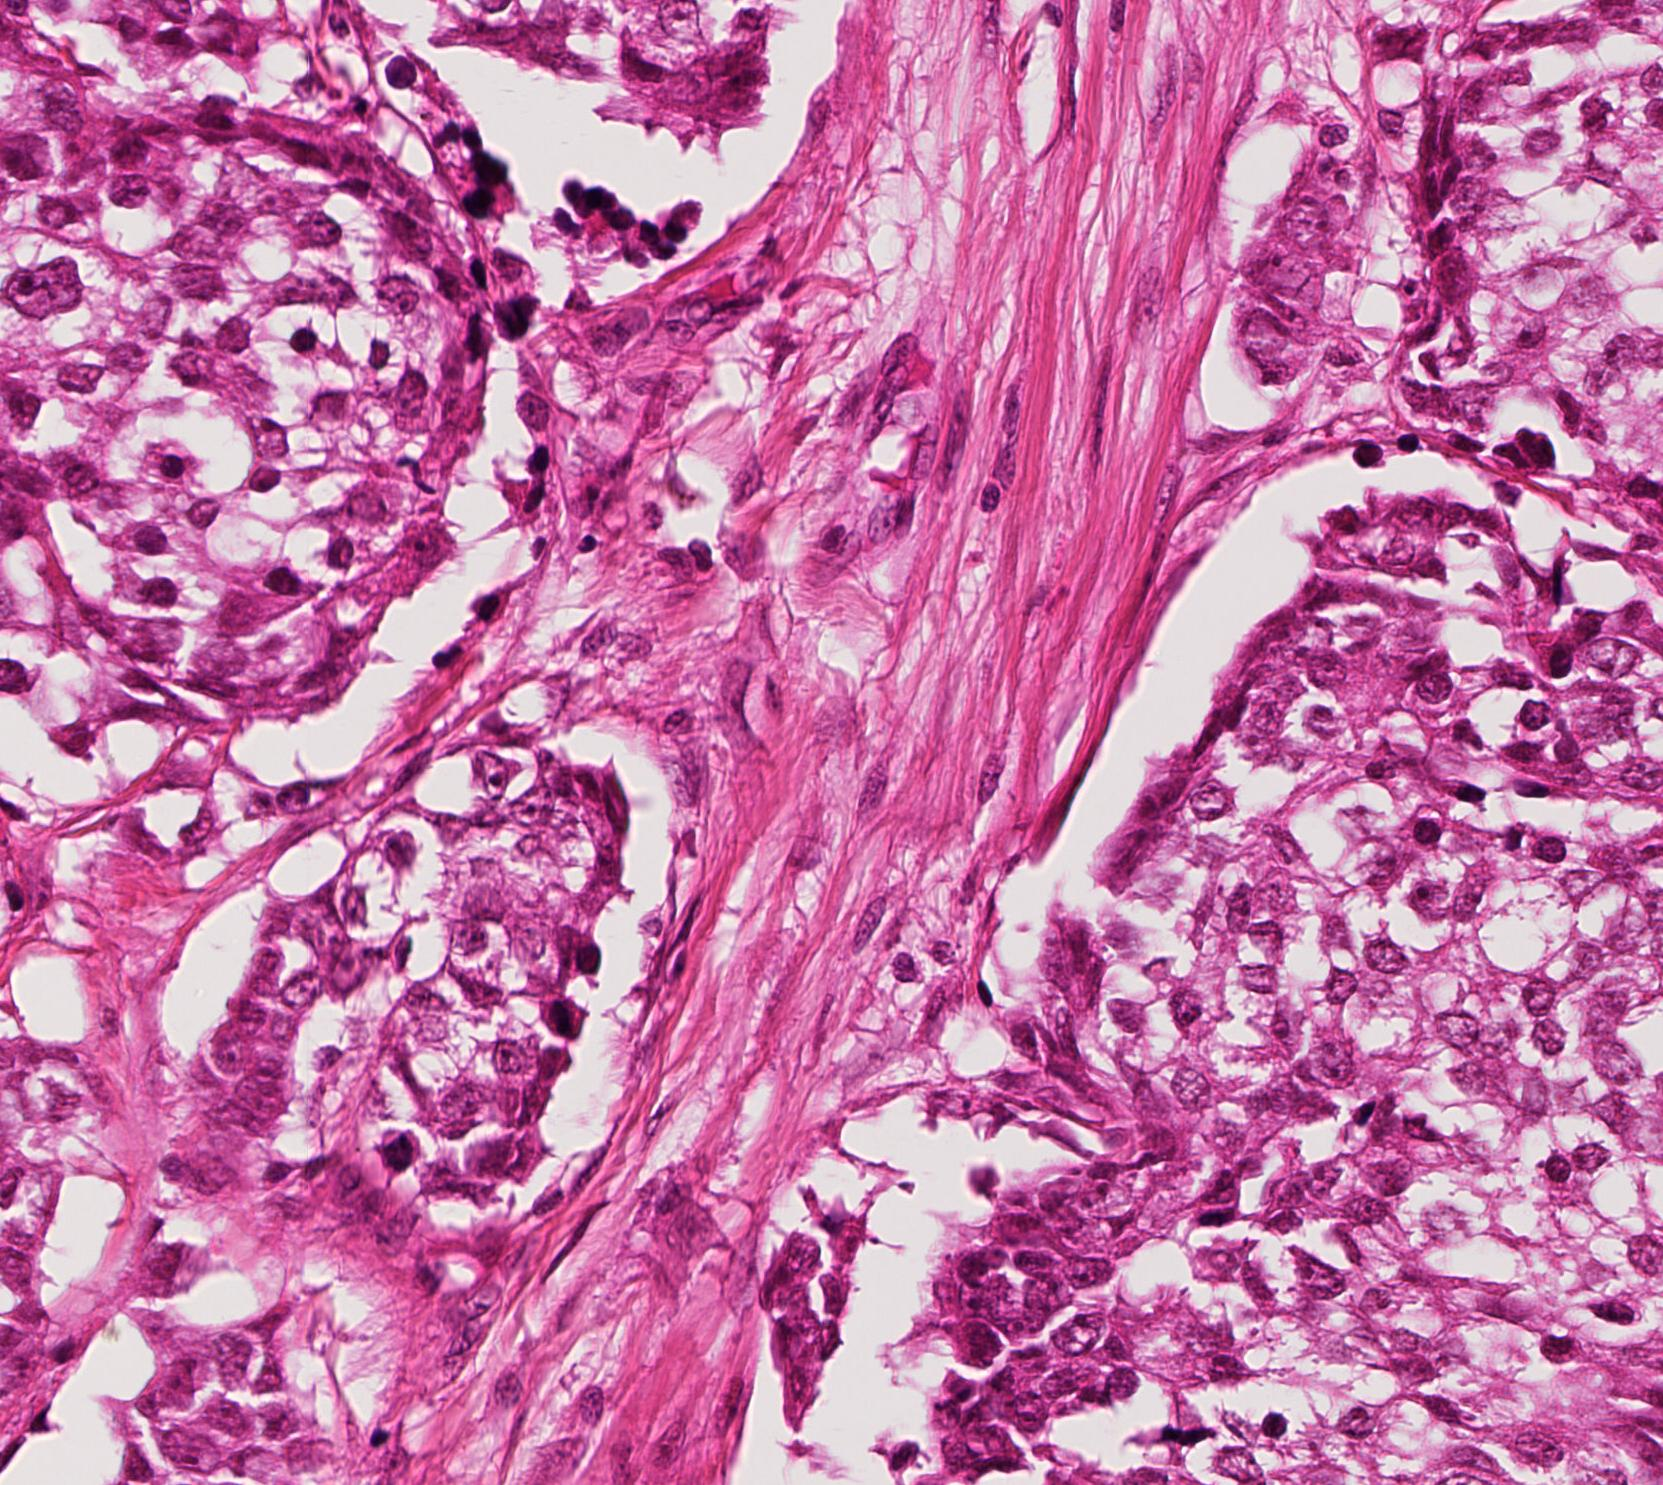mitosis: (368, 1119, 429, 1180)
